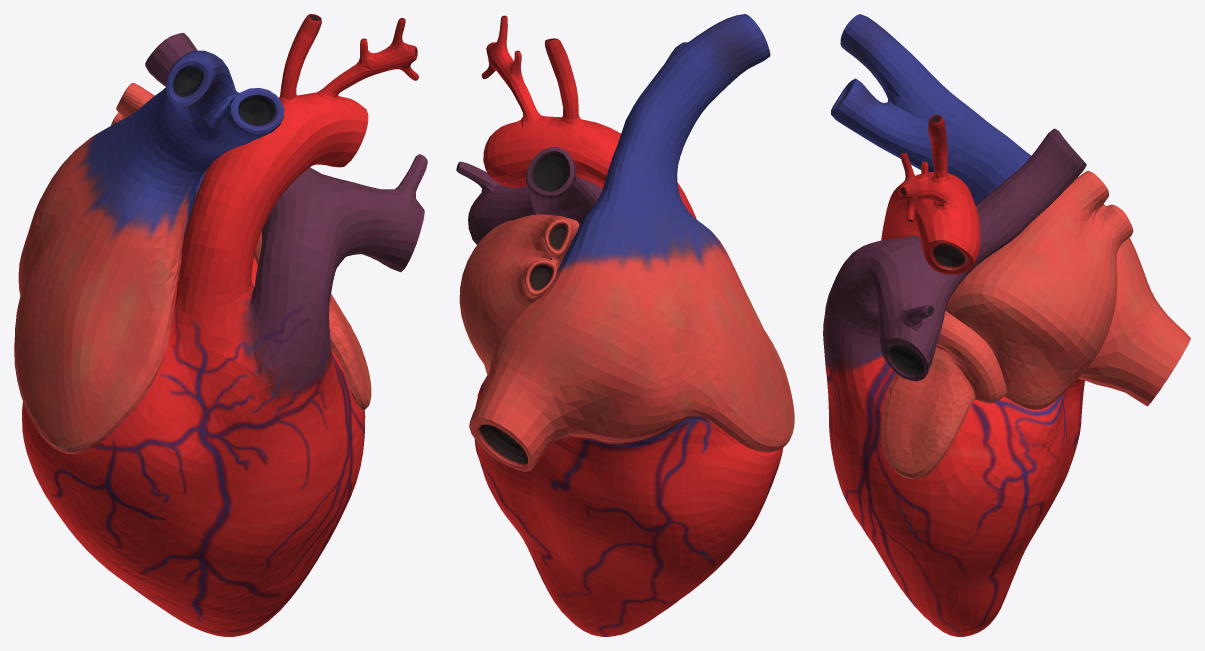
File: Hearth.gltf
The picture shows the model from 3 angles, left to right: view 1: azimuth 30°, elevation 25°; view 2: azimuth 150°, elevation 25°; view 3: azimuth 270°, elevation 25°; orthographic projection. The views are drawn at different scales.
Size of the model in its own units: 0.3058 by 0.512 by 0.297.
Materials: 1 (1 with a texture image).
